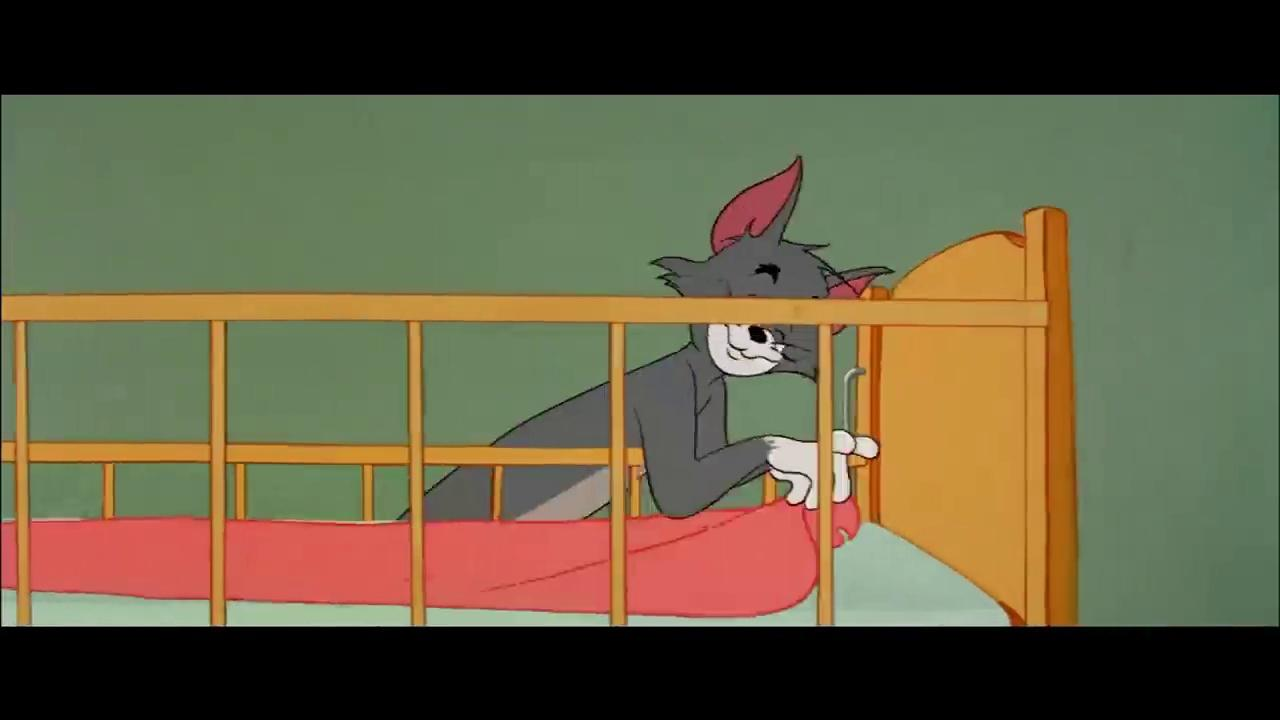Tom: (399, 150, 898, 519)
